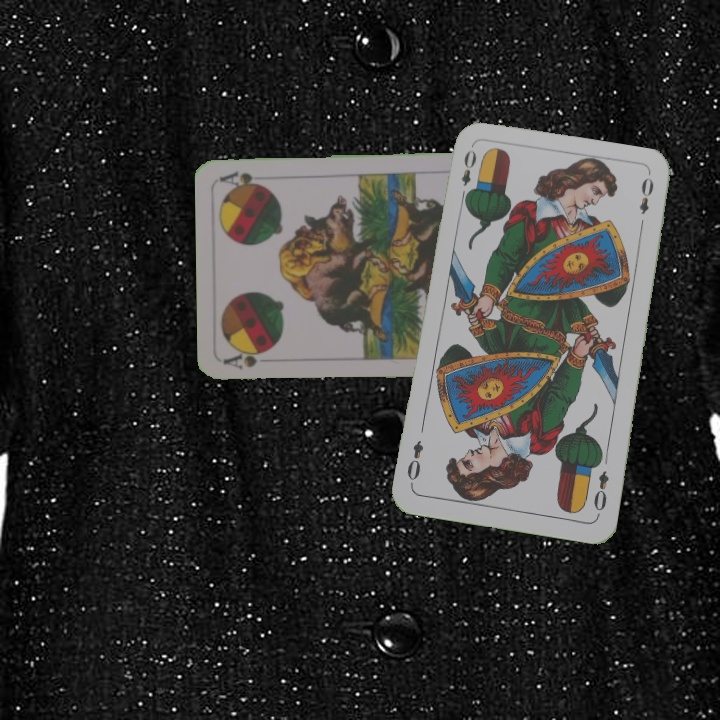EO: (457, 145, 479, 203), (589, 467, 612, 519)
SA: (222, 344, 276, 372)
